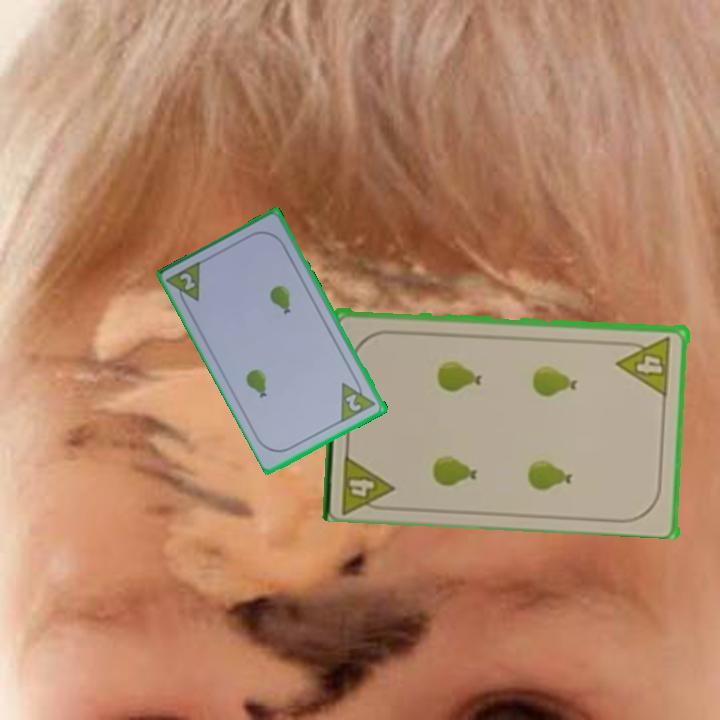2p: (164, 257, 205, 311), (337, 373, 379, 425)
4p: (337, 448, 398, 514), (615, 332, 675, 397)
